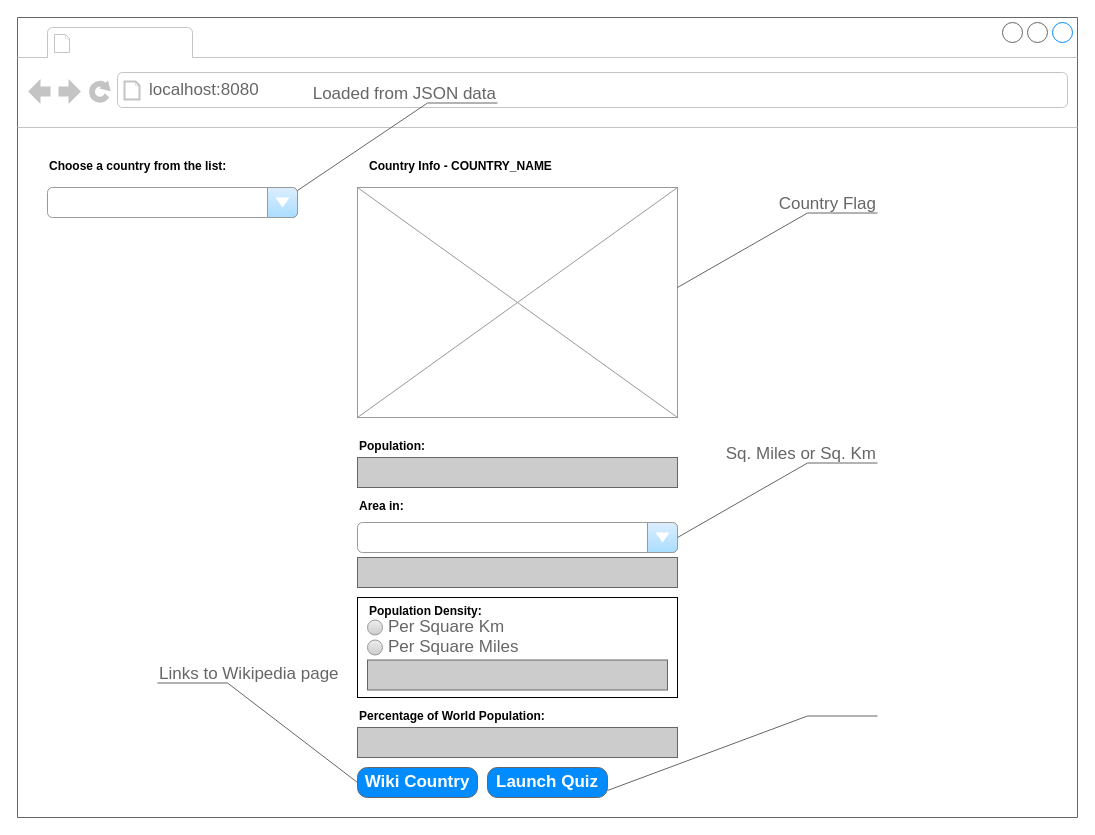
This 1095x835 diagram has some shape labels left out. The shapes that lost their labels are listed below. From the top down, each one's centre as x and y in pixels, then its label:
point (132, 42): Country Info
point (172, 202): Select One
point (517, 537): Sq. Miles
point (742, 740): Launches Quiz
